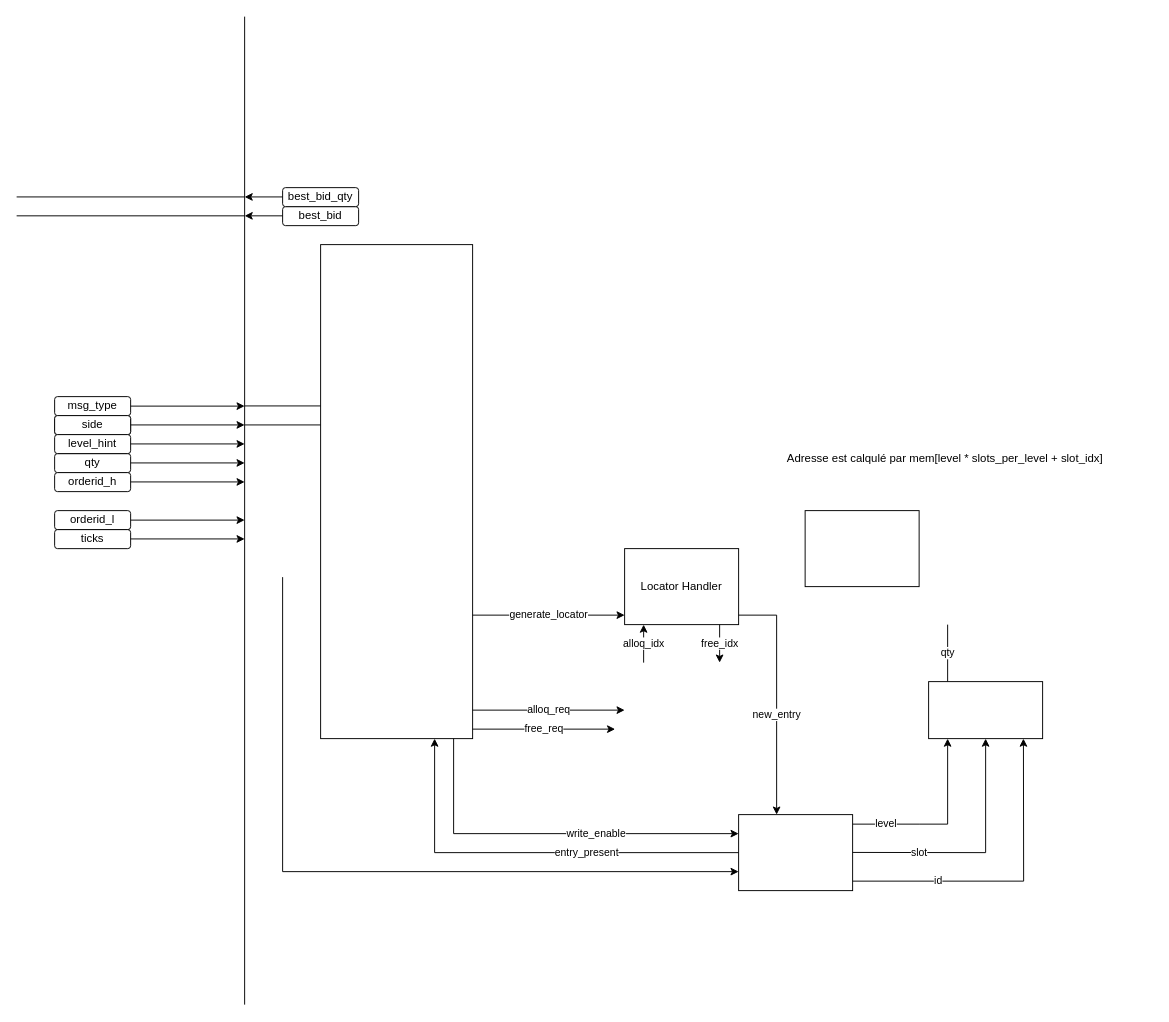
Image size: 1169x1022. Some labels were removed from this diagram. Here are the shapes that lost their labels. From the top down, the centre of each, then its label:
At [396,491]: "Main Controller".
At [861,548]: "Free List".
At [985,710]: "L1".
At [795,852]: "Locator Hash Table".
